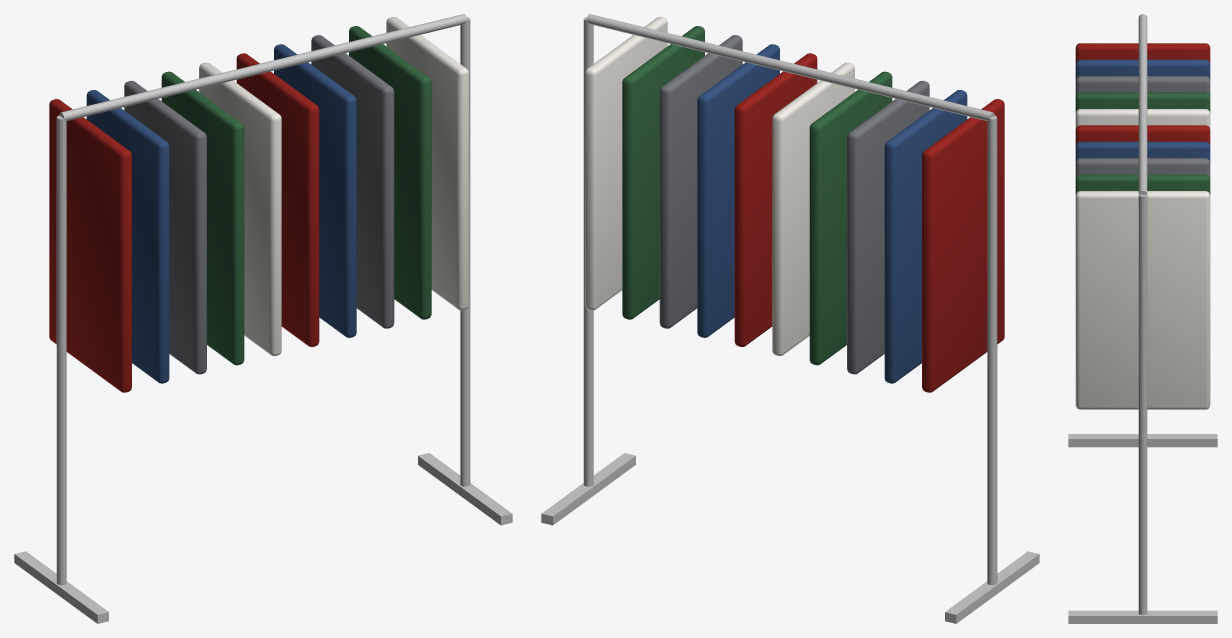
The model's file is retail.shop.clothes_rail.glb.
The picture shows the model from 3 angles, left to right: view 1: azimuth 30°, elevation 25°; view 2: azimuth 150°, elevation 25°; view 3: azimuth 270°, elevation 25°; orthographic projection. The views are drawn at different scales.
Parts seen in each view (by area): view 1: main__fabric_red, main__fabric_grey, main__fabric_blue, main__fabric_green, main__fabric_white, main__steel_stainless; view 2: main__fabric_red, main__fabric_grey, main__fabric_blue, main__fabric_green, main__fabric_white, main__steel_stainless; view 3: main__fabric_white, main__steel_stainless, main__fabric_blue, main__fabric_grey, main__fabric_red, main__fabric_green.
Boxes of the visible parts, <box> form: main__fabric_red: <box>49,53,319,392</box>; main__fabric_grey: <box>124,35,394,374</box>; main__fabric_blue: <box>86,44,356,383</box>; main__fabric_green: <box>161,26,431,365</box>; main__fabric_white: <box>199,17,468,355</box>; main__steel_stainless: <box>14,14,512,623</box>; main__fabric_red: <box>734,53,1004,392</box>; main__fabric_grey: <box>659,35,929,374</box>; main__fabric_blue: <box>697,44,967,383</box>; main__fabric_green: <box>622,26,892,365</box>; main__fabric_white: <box>585,17,854,355</box>; main__steel_stainless: <box>541,14,1039,623</box>; main__fabric_white: <box>1075,109,1210,409</box>; main__steel_stainless: <box>1068,14,1217,623</box>; main__fabric_blue: <box>1075,59,1210,161</box>; main__fabric_grey: <box>1075,76,1210,178</box>; main__fabric_red: <box>1075,43,1210,145</box>; main__fabric_green: <box>1075,92,1210,194</box>.
Bounding box in the file's own units: 1.44 × 1.59 × 0.5.
